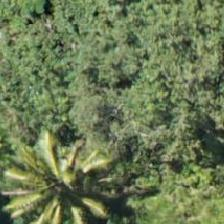coconut_tree: (23, 143, 113, 223)
